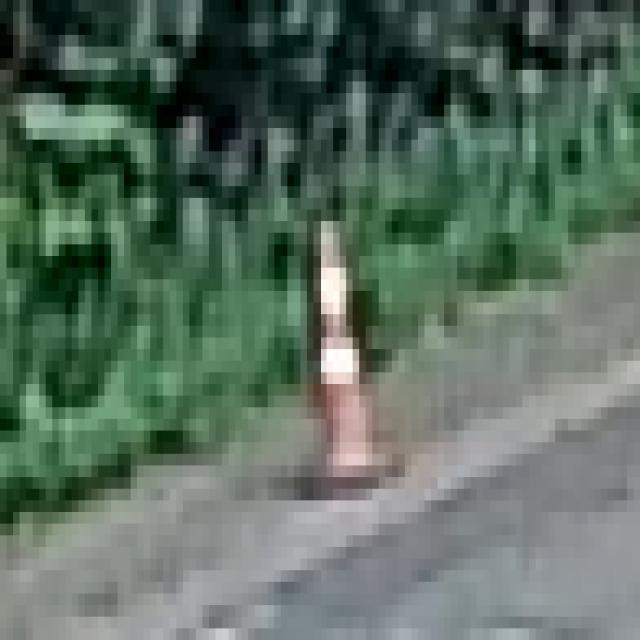small_cone: (313, 222, 376, 472)
